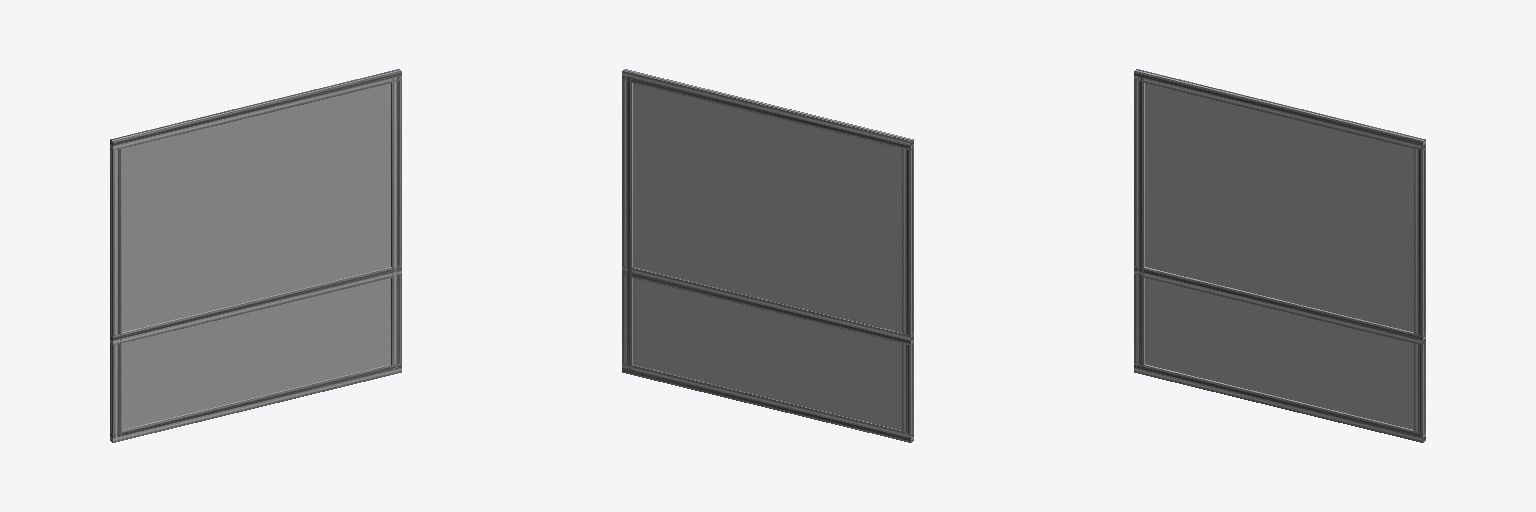
The picture shows the model from 3 angles: view 1: azimuth 30°, elevation 25°; view 2: azimuth 150°, elevation 25°; view 3: azimuth 330°, elevation 25°; orthographic projection.
Visible parts, largest first — view 1: Plane001, Box005; view 2: Plane001, Box005; view 3: Plane001, Box005.
Boxes of the visible parts, box(x1,y1,x2,y2) form: Plane001: box(122, 83, 390, 331); Box005: box(110, 69, 401, 442); Plane001: box(633, 83, 901, 331); Box005: box(622, 69, 913, 442); Plane001: box(1145, 83, 1413, 331); Box005: box(1134, 69, 1425, 442).
Bounding box in the file's own units: 31 × 31 × 0.5.
Materials: 2 (2 with a texture image).